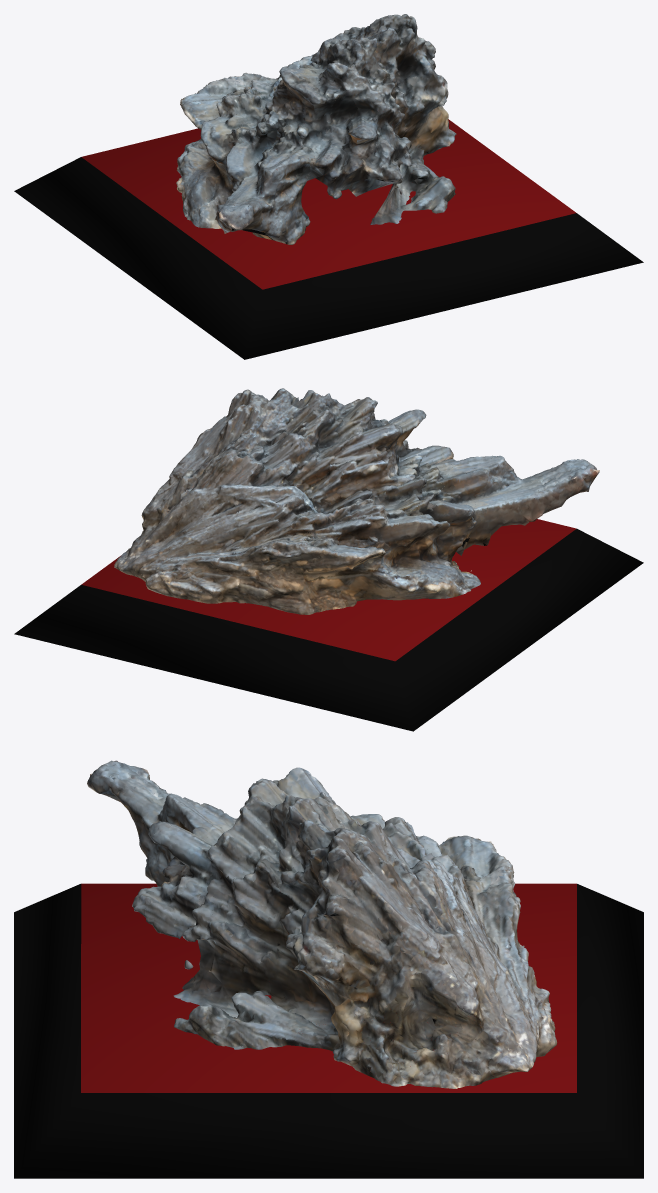
Rendered from Estibina.glb.
The picture shows the model from 3 angles, top to bottom: view 1: azimuth 30°, elevation 25°; view 2: azimuth 150°, elevation 25°; view 3: azimuth 270°, elevation 25°; orthographic projection. The views are drawn at different scales.
Visible parts, largest first — view 1: texturedMesh.001; view 2: texturedMesh.001; view 3: texturedMesh.001.
Part boxes in pixels (bbox=[...]): texturedMesh.001: bbox=[14, 14, 643, 359]; texturedMesh.001: bbox=[14, 388, 643, 731]; texturedMesh.001: bbox=[14, 760, 643, 1178].
Size of the model in its own units: 10 by 4.58 by 10.
Materials: 5 (3 with a texture image).
